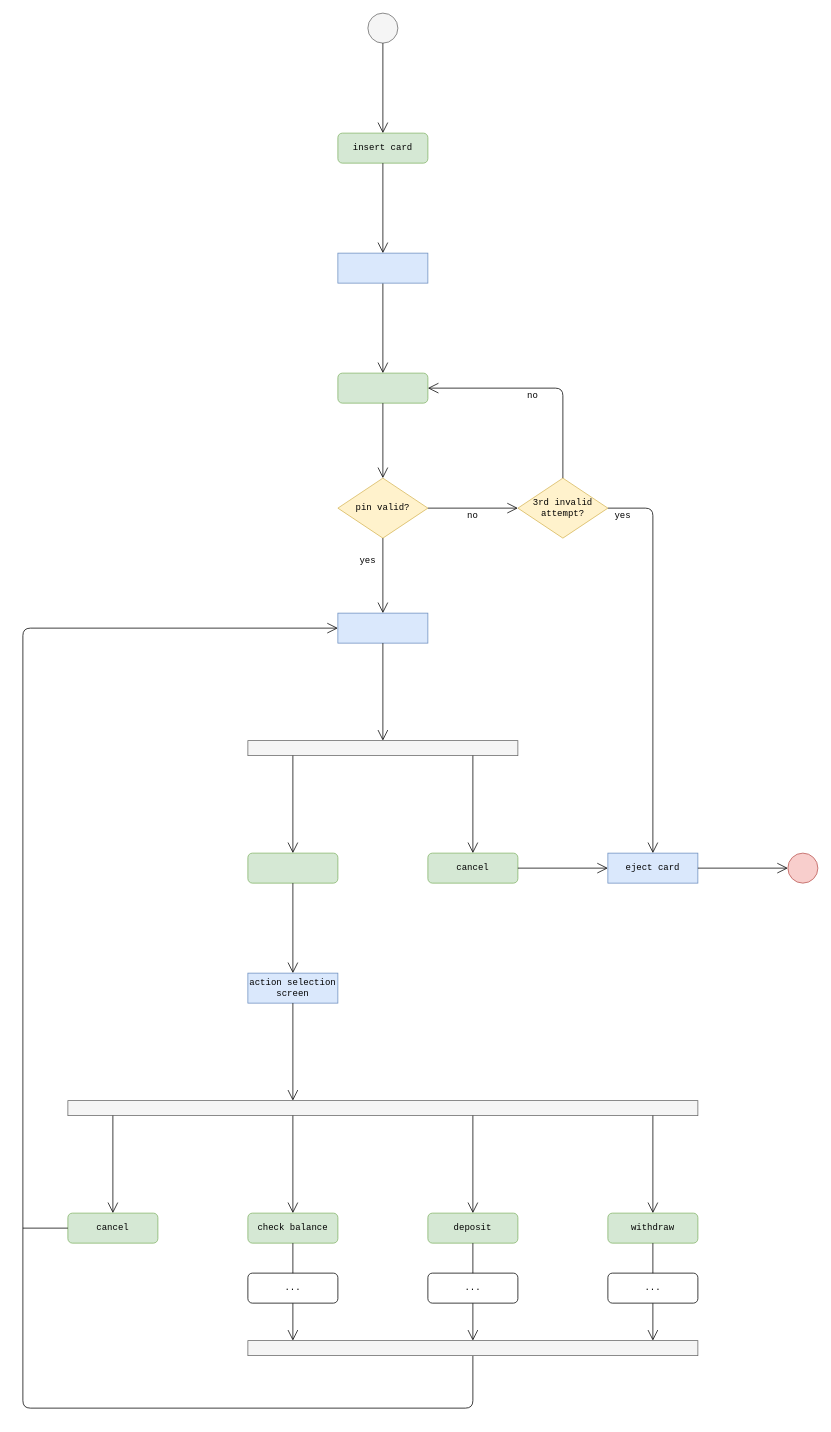
This 831x1432 diagram has some shape labels left out. Each missing label, with the centre of its shape:
"account selection screen" goes at (382,627).
"end" goes at (802,867).
"enter pin" goes at (382,387).
"pin input screen" goes at (382,267).
"select account" goes at (292,867).
"start" goes at (382,27).
